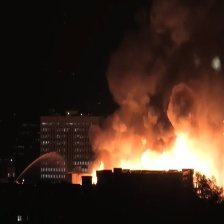fire: (96, 149, 213, 188)
smoke: (78, 33, 224, 150)
